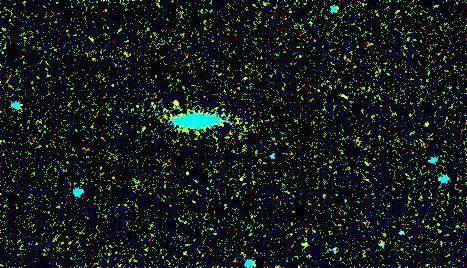star: (163, 84, 193, 114)
